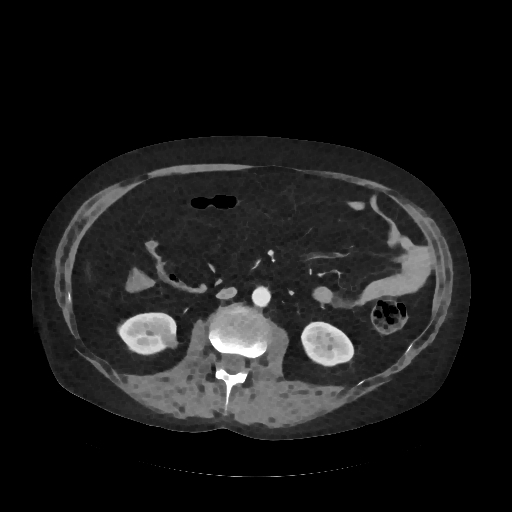Lesion: (159, 332, 180, 352)
